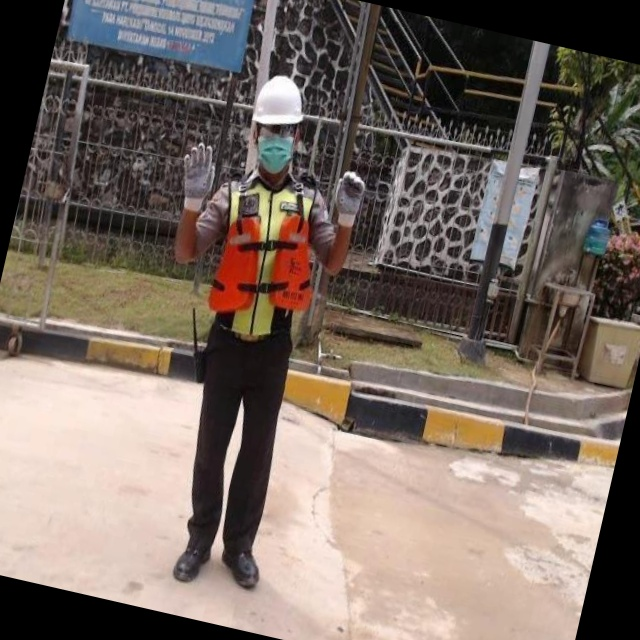boots: (273, 549, 323, 605), (232, 563, 269, 611)
gloves: (147, 172, 190, 246), (305, 166, 339, 222)
vest: (196, 185, 310, 359)
